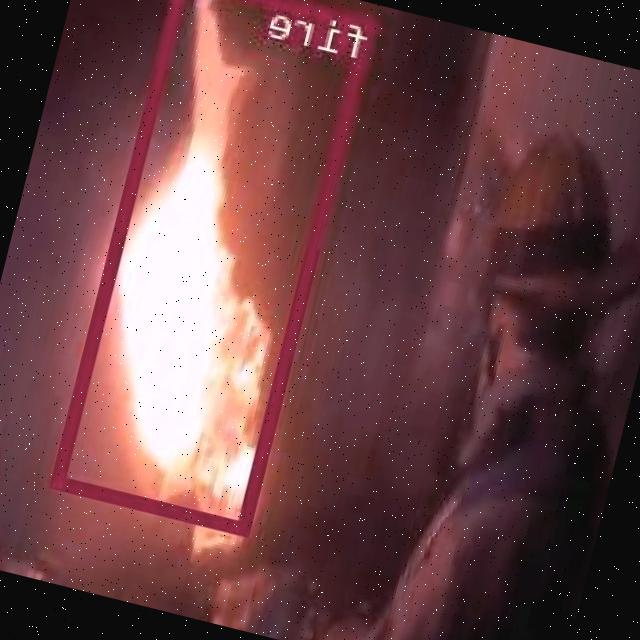fire: (54, 0, 380, 535)
